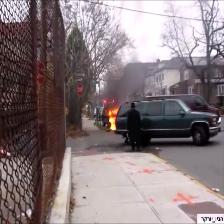fire: (100, 101, 129, 137)
